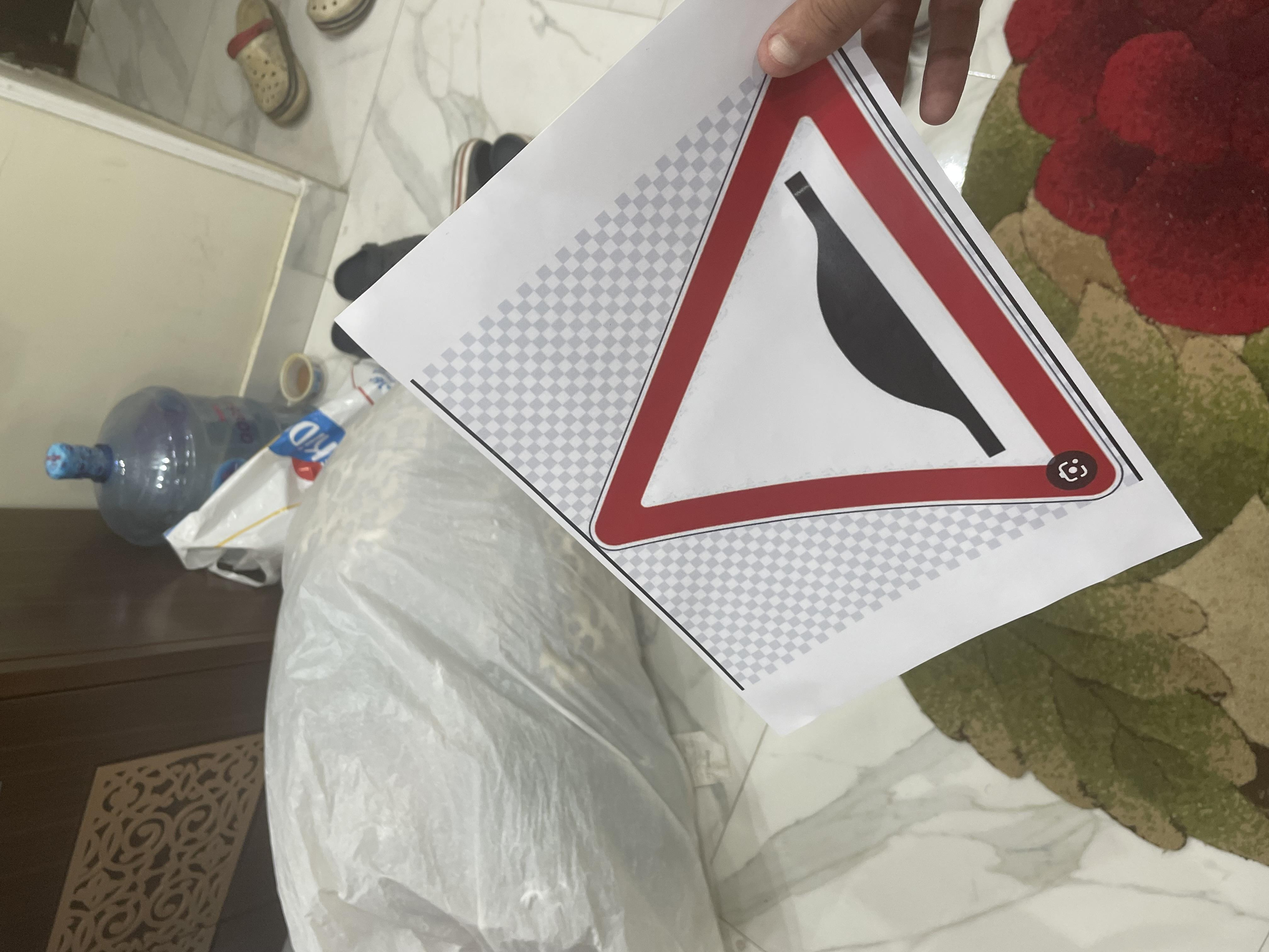Hump: (522, 428, 1218, 842)
